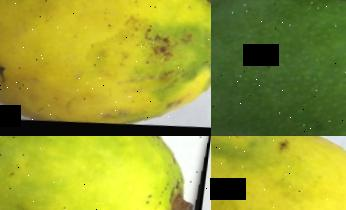PartiallyRipe: (0, 136, 211, 210)
Ripe: (0, 0, 211, 136), (211, 136, 346, 210)
Unripe: (211, 0, 346, 136)
